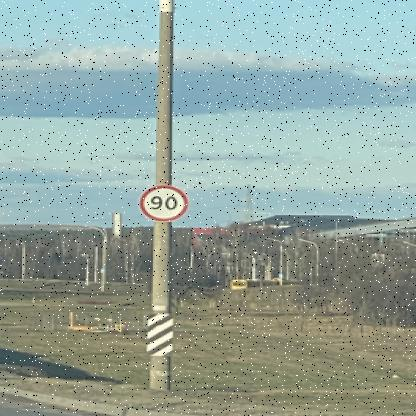speedlimit: (136, 184, 186, 220)
